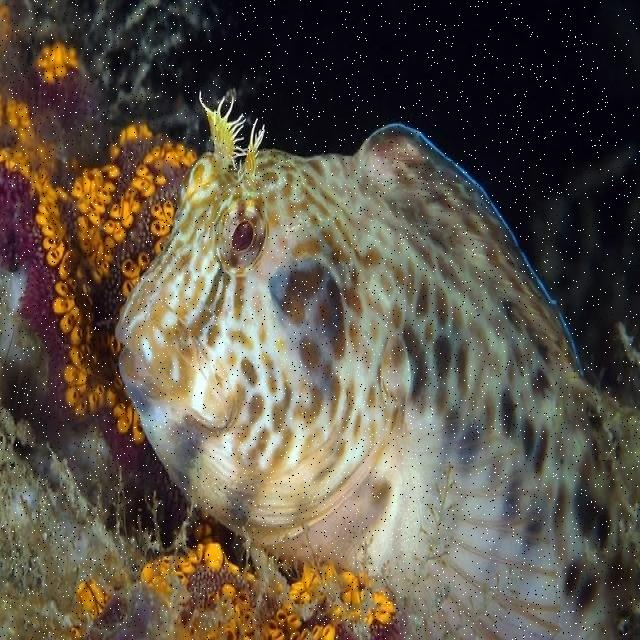fish: (116, 90, 636, 639)
reefs: (1, 37, 199, 483), (70, 540, 400, 638)
